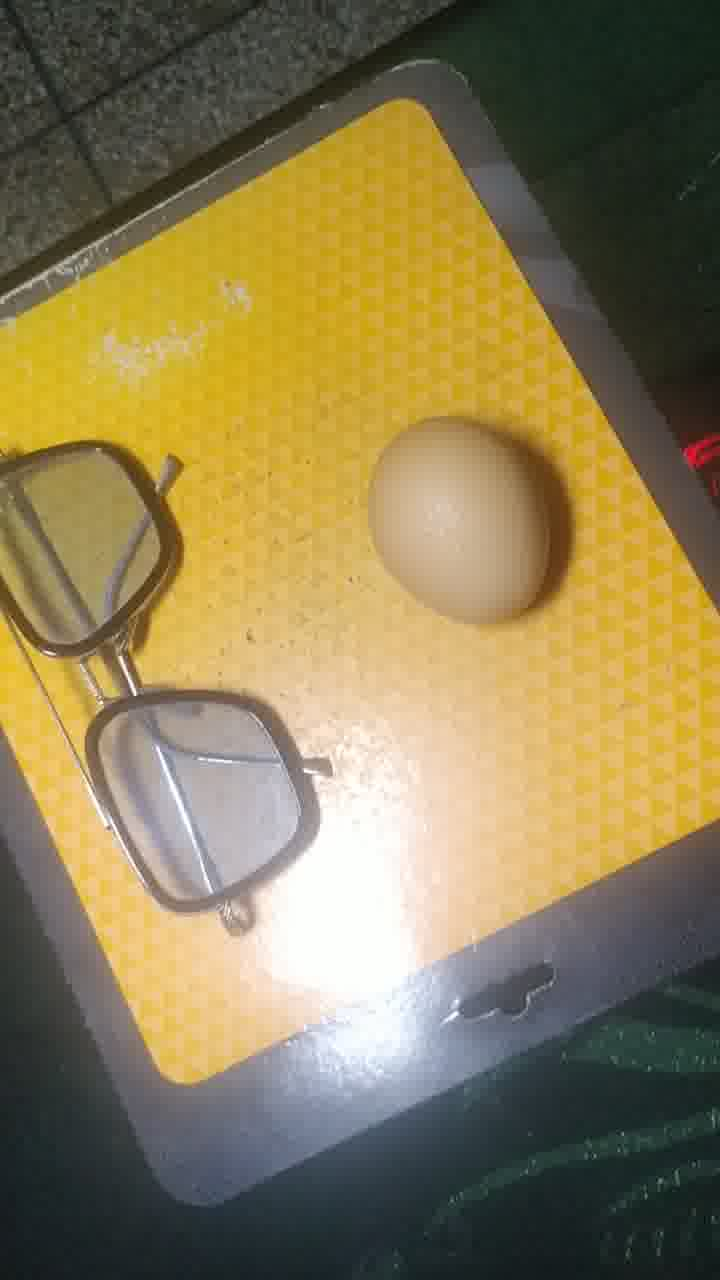egg: (363, 404, 580, 636)
sunglass: (1, 427, 348, 933)
